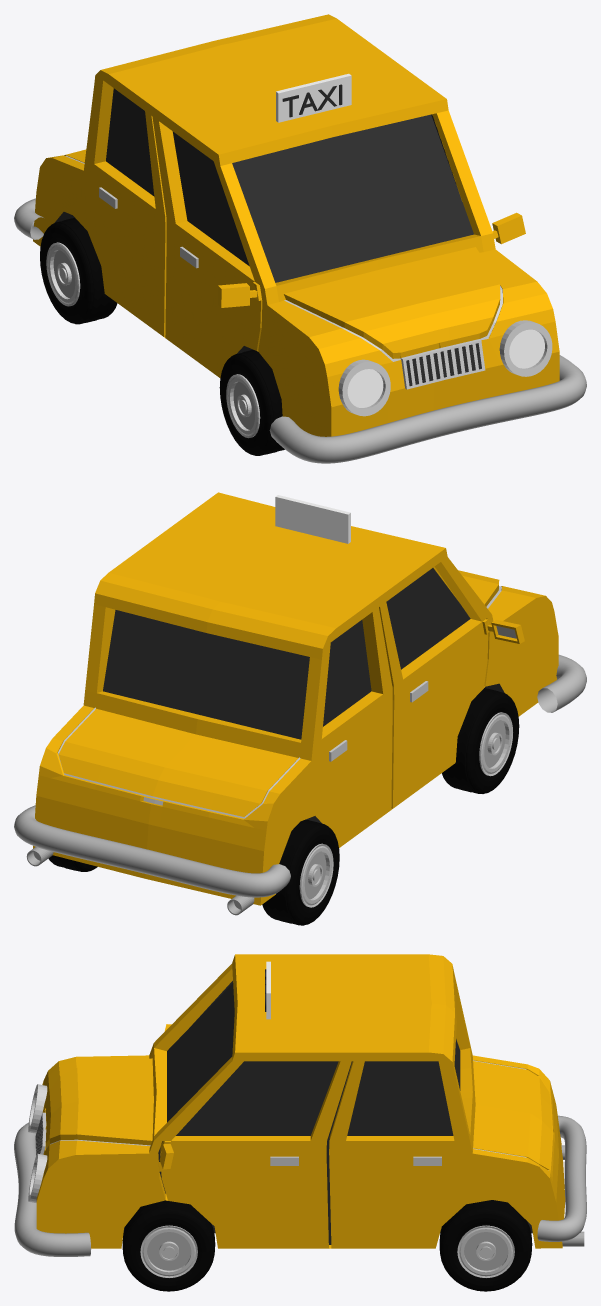
The model's file is CR-CAR-24A.fbx.
3 renders of one model, top to bottom at view 1: azimuth 30°, elevation 25°; view 2: azimuth 150°, elevation 25°; view 3: azimuth 270°, elevation 25°, orthographic. The views are drawn at different scales.
Visible parts, largest first — view 1: BODY, NurbsPath, WHEEL.004, WHEEL.001, NurbsPath.001, TAXI; view 2: BODY, NurbsPath.001, WHEEL.001, WHEEL.004, NurbsPath; view 3: BODY, WHEEL.002, WHEEL.003, NurbsPath, NurbsPath.001.
Boxes of the visible parts, box(x1,y1,x2,y2) form: BODY: box(33, 14, 559, 436); NurbsPath: box(269, 355, 586, 463); WHEEL.004: box(40, 218, 117, 324); WHEEL.001: box(219, 349, 284, 455); NurbsPath.001: box(14, 198, 43, 239); TAXI: box(282, 84, 342, 117); BODY: box(26, 492, 558, 915); NurbsPath.001: box(14, 805, 290, 897); WHEEL.001: box(442, 688, 519, 793); WHEEL.004: box(262, 819, 339, 925); NurbsPath: box(537, 654, 586, 712); BODY: box(28, 954, 584, 1248); WHEEL.002: box(439, 1200, 532, 1291); WHEEL.003: box(122, 1200, 215, 1291); NurbsPath: box(14, 1122, 91, 1256); NurbsPath.001: box(537, 1115, 586, 1241).
Size of the model in its own units: 131 by 122 by 242.
